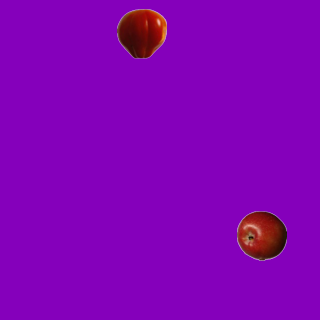Apple Braeburn: (236, 210, 286, 260)
Tomato 1: (116, 8, 166, 58)
